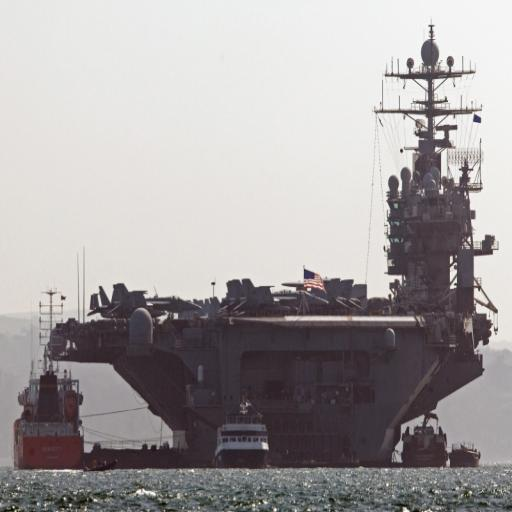Portanaves: (46, 21, 499, 471)
